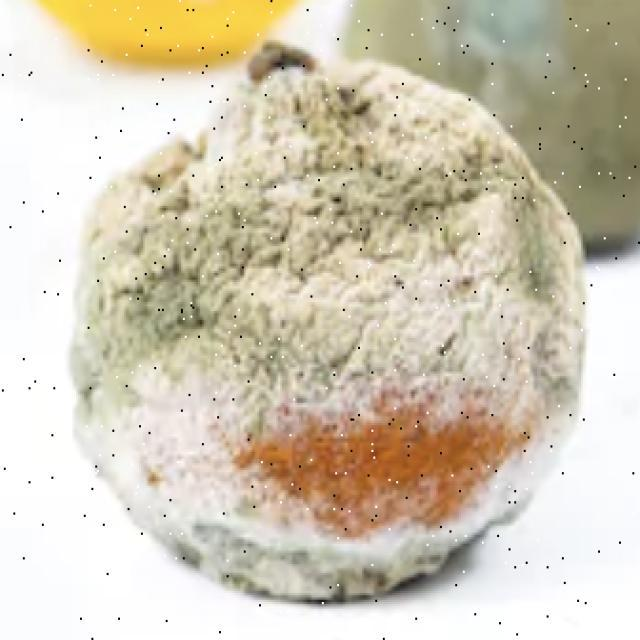sangat-busuk: (70, 41, 586, 600)
